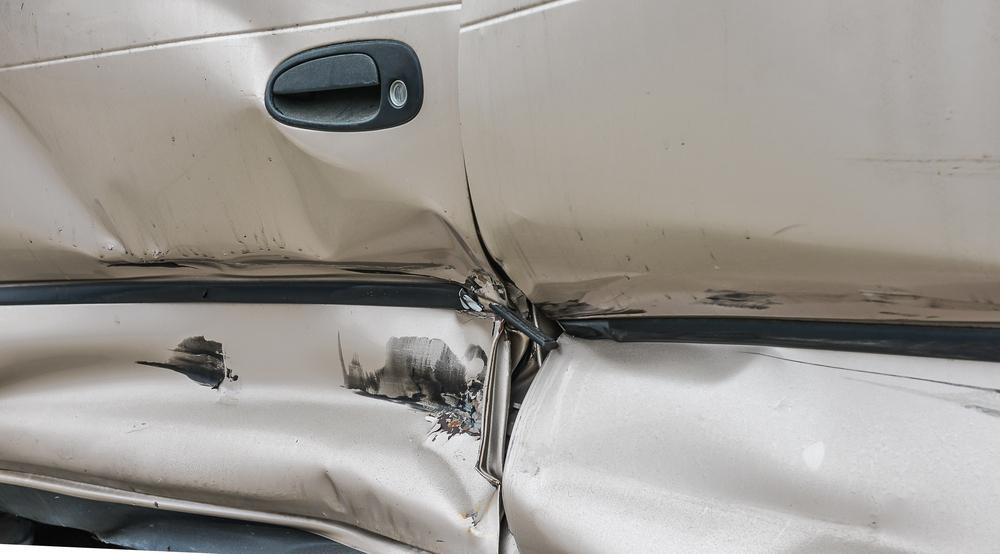dent: (0, 0, 504, 553), (497, 221, 897, 554)
scratch: (824, 363, 1000, 418), (862, 289, 1000, 321)
